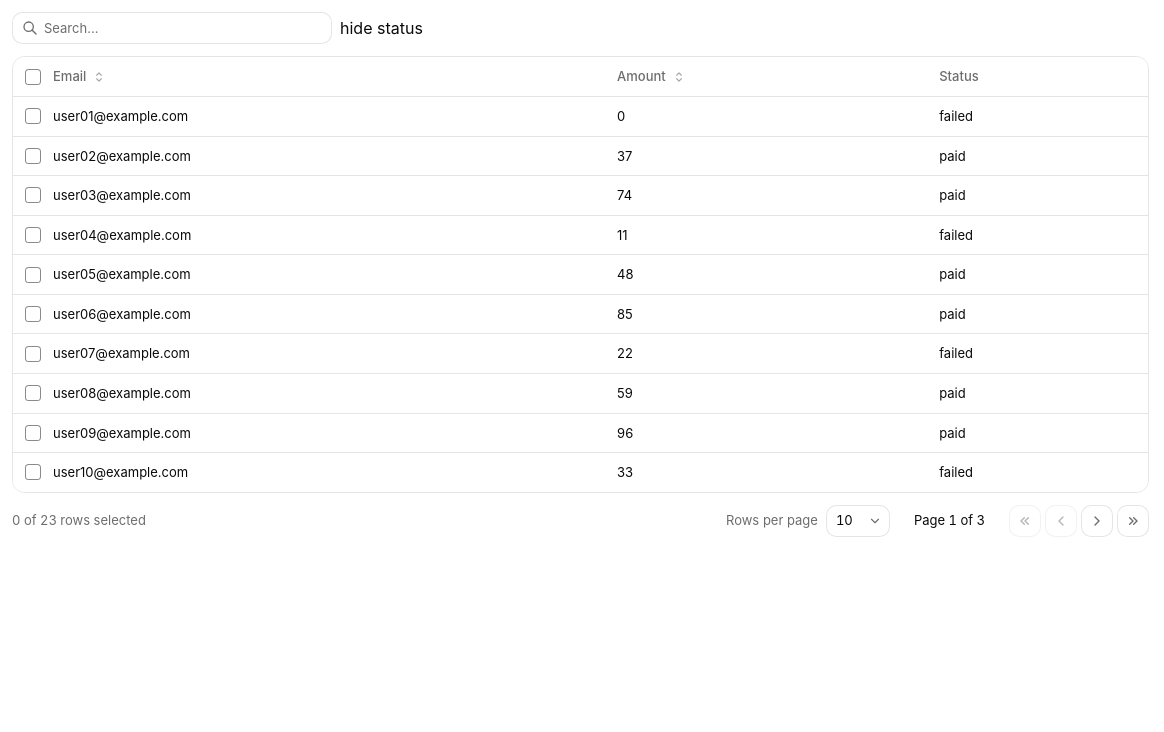
Test: DataTable › selects rows, a page at once, and ranges with Shift
Step 1. Click the checkbox named "Select row" next to "user02@example.com" → click(33, 156), box [25,148,41,164]
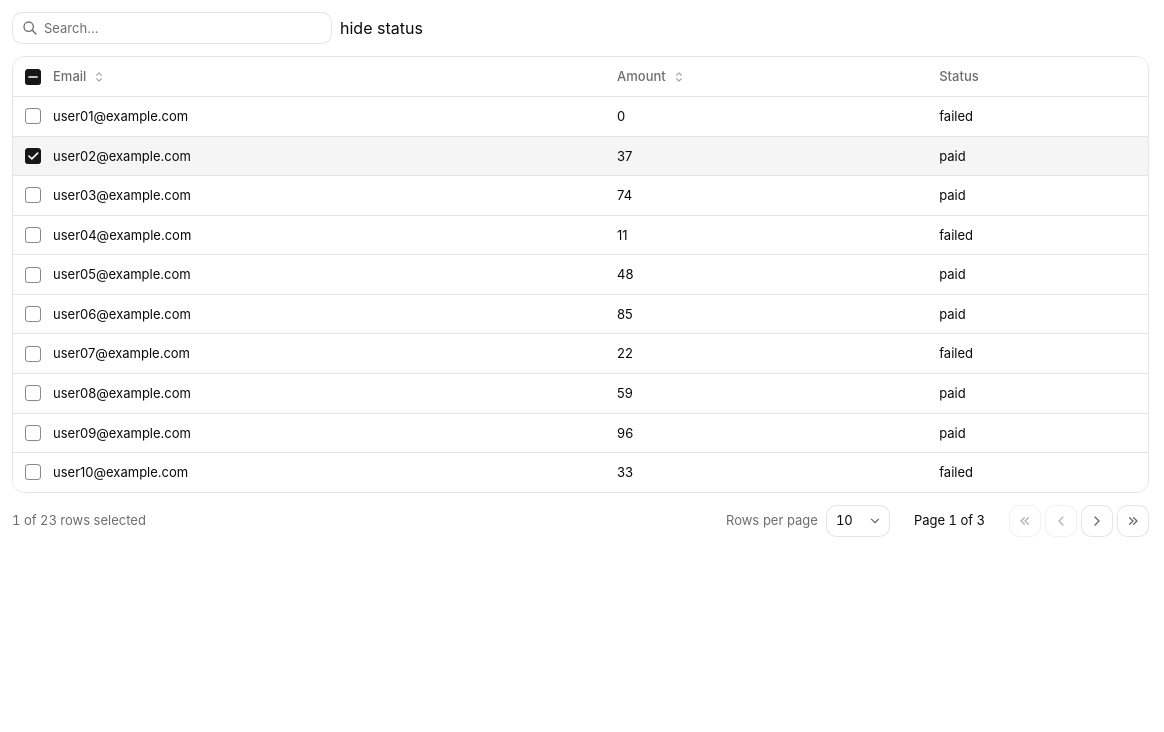
Expected: the text "1 of 23 rows selected" is shown, [12,511,146,530]
Step 2. Click the checkbox named "Select row" next to "user05@example.com" → click(33, 274), box [25,266,41,282]
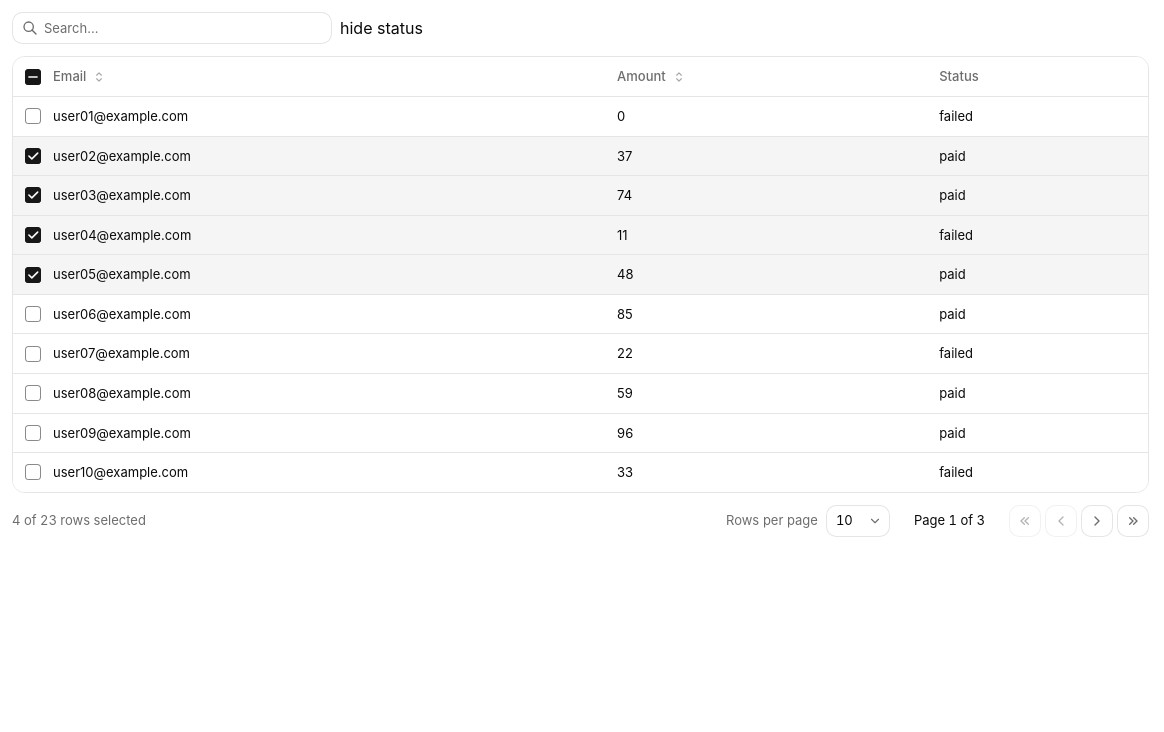
Expected: the text "4 of 23 rows selected" is shown, [12,511,146,530]
Step 3. Click the checkbox named "Select all rows on this page" → click(33, 76), box [25,68,41,84]
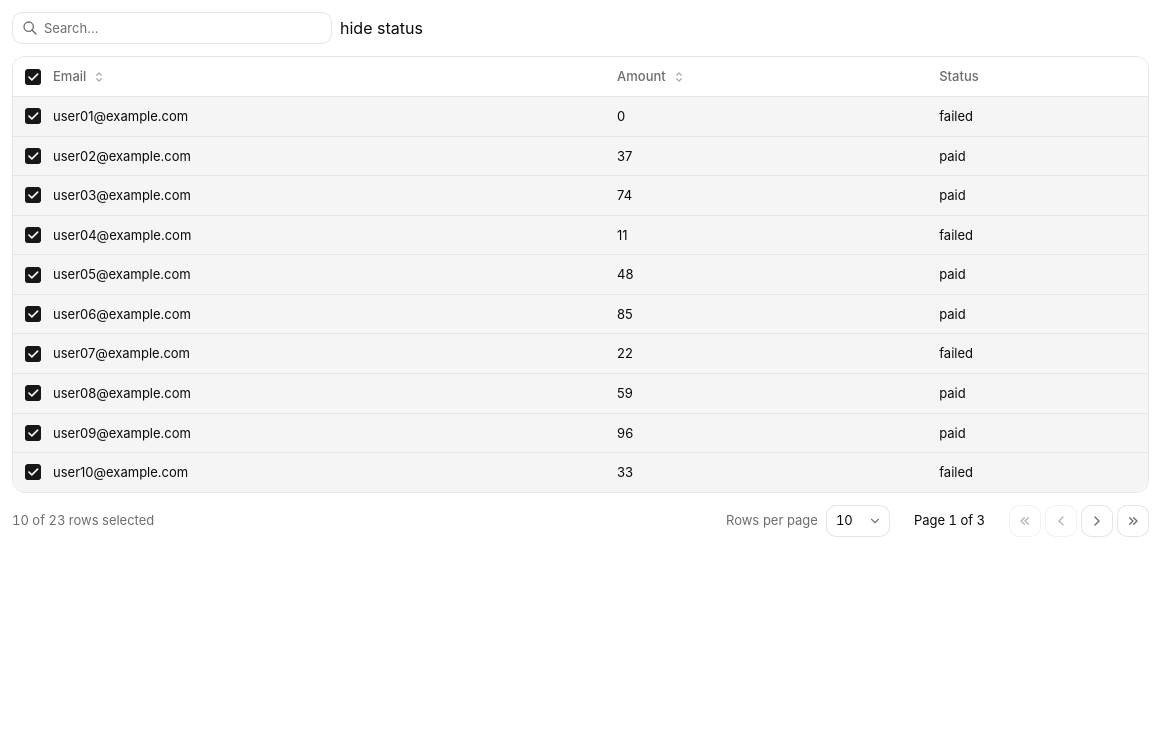
Expected: the text "10 of 23 rows selected" is shown, [12,511,154,530]
